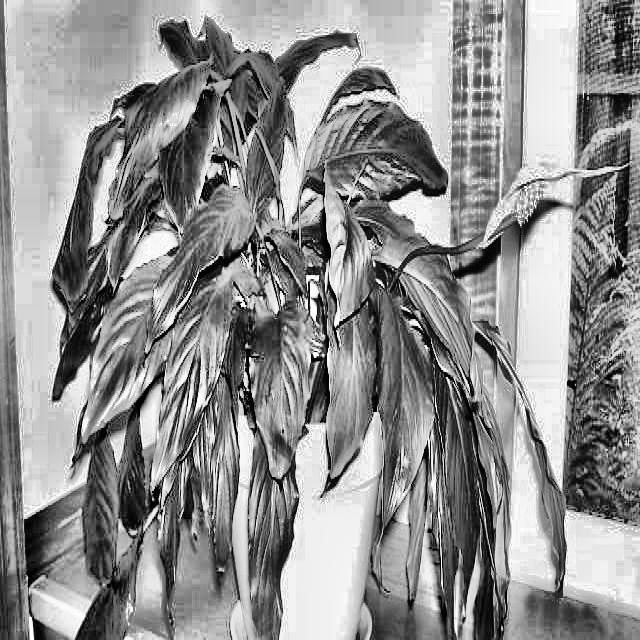plants: (40, 17, 589, 638), (516, 376, 578, 602), (52, 106, 115, 326), (480, 416, 520, 639), (155, 456, 193, 638)
